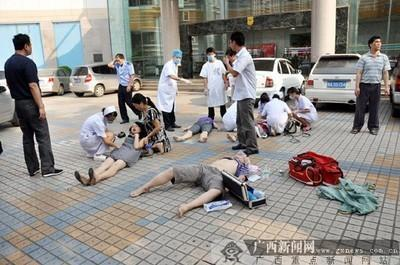Fall-Detected: (169, 110, 219, 145)
